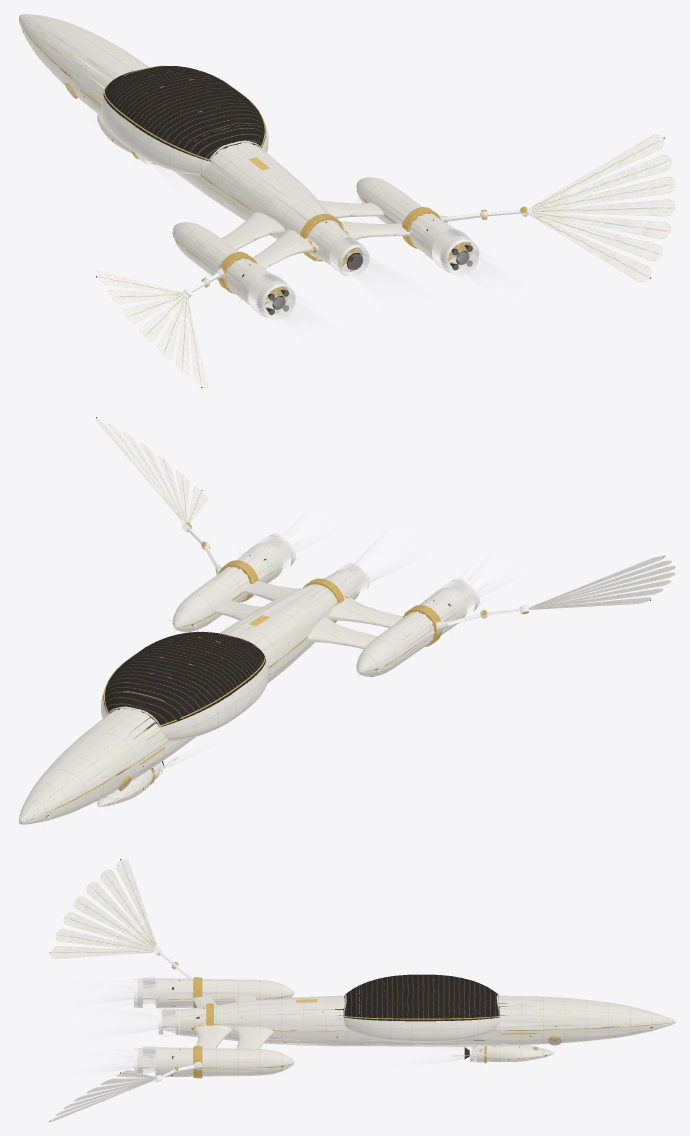
The model's file is Solstice_LOD2.glb.
The picture shows the model from 3 angles, top to bottom: view 1: azimuth 30°, elevation 25°; view 2: azimuth 150°, elevation 25°; view 3: azimuth 270°, elevation 25°; orthographic projection. The views are drawn at different scales.
Parts seen in each view (by area): view 1: hull, detail, plume; view 2: hull, detail, plume; view 3: hull, detail, plume.
Boxes of the visible parts, box(x1,y1,x2,y2) form: hull: box(19, 14, 456, 308); detail: box(19, 18, 675, 388); plume: box(153, 163, 499, 335); hull: box(19, 544, 464, 824); detail: box(21, 418, 675, 821); plume: box(163, 519, 499, 768); hull: box(158, 974, 675, 1077); detail: box(50, 859, 669, 1121); plume: box(76, 980, 464, 1075).
Size of the model in its own units: 167 by 39.17 by 219.
6 materials, 5 textured.
